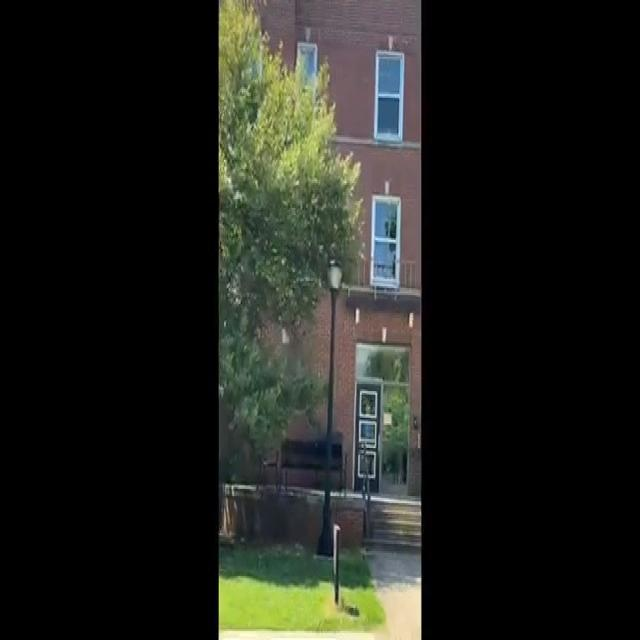drone: (287, 267, 327, 298)
